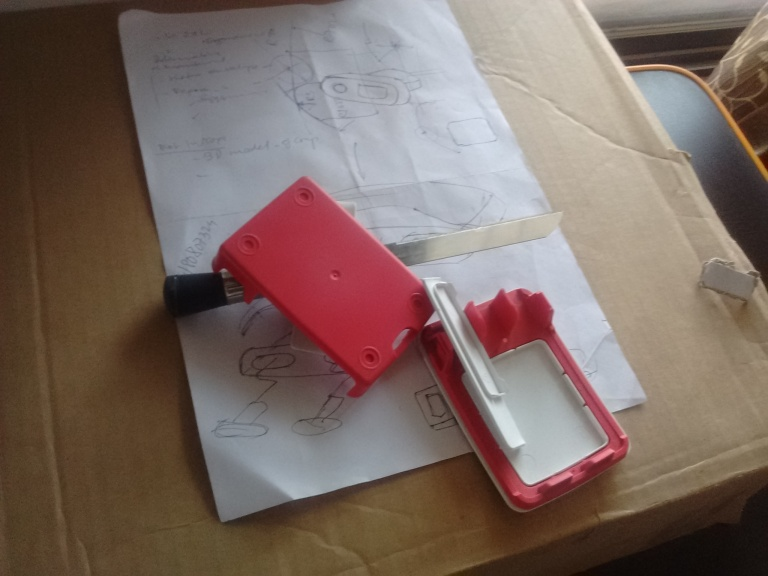knife: (382, 208, 569, 272)
